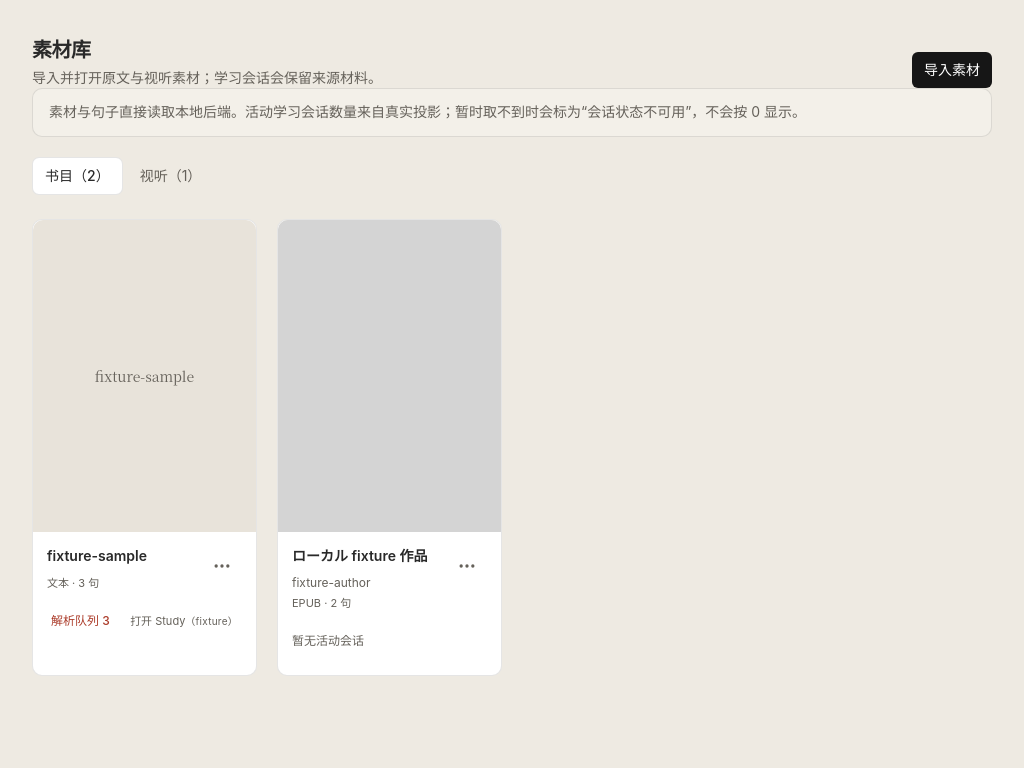
Test: LibraryScreen material states › 模式计数与切换后可见卡片数量一致
The image size is (1024, 768).
Expected: the number of buttons named "打开《" is 2, 47,546 -> 194,566; 292,546 -> 439,566
Click the button "视听（1）".
click(170, 176)  # box 127,157 -> 214,195
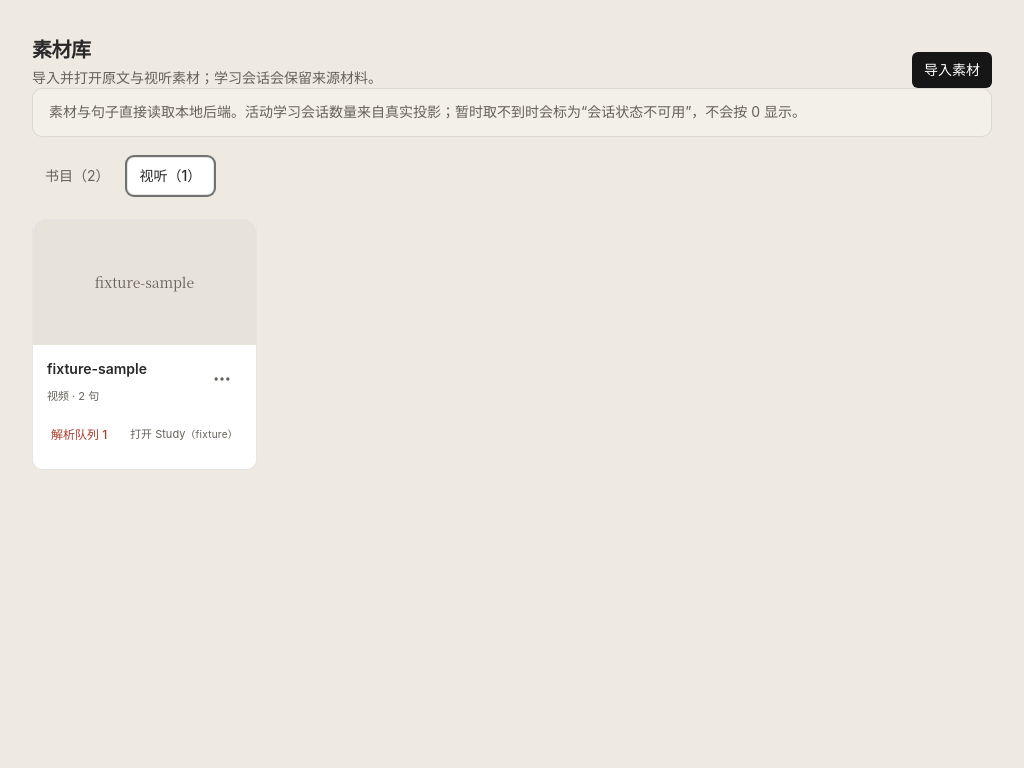
Expected: the number of buttons named "打开《" is 1, 47,359 -> 194,379
